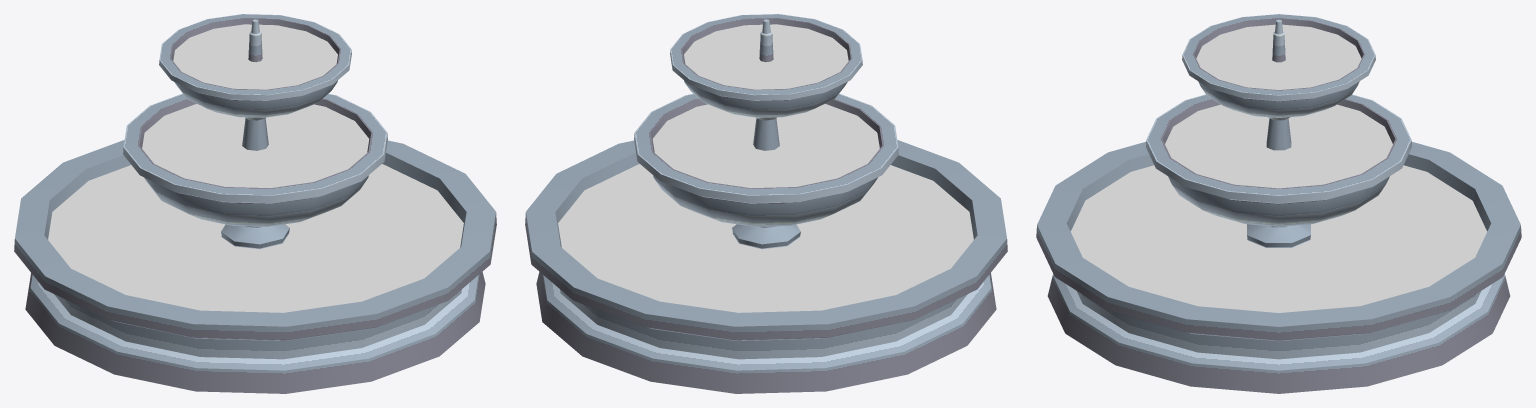
Rendered from fuente.fbx.
3 views of the same model, side by side, from view 1: azimuth 30°, elevation 25°; view 2: azimuth 150°, elevation 25°; view 3: azimuth 270°, elevation 25° (orthographic).
Visible parts, largest first — view 1: fuente, agua1, agua2, agua3; view 2: fuente, agua1, agua2, agua3; view 3: fuente, agua1, agua2, agua3.
Boxes of the visible parts, x1,y1,x2,y2 form: fuente: (14, 14, 496, 393); agua1: (48, 164, 463, 312); agua2: (142, 104, 369, 188); agua3: (173, 24, 337, 89); fuente: (525, 14, 1007, 393); agua1: (558, 164, 973, 312); agua2: (652, 104, 879, 188); agua3: (684, 24, 848, 89); fuente: (1036, 14, 1521, 393); agua1: (1070, 165, 1487, 312); agua2: (1165, 104, 1392, 188); agua3: (1196, 24, 1361, 89).
Size of the model in its own units: 912 by 570 by 912.
